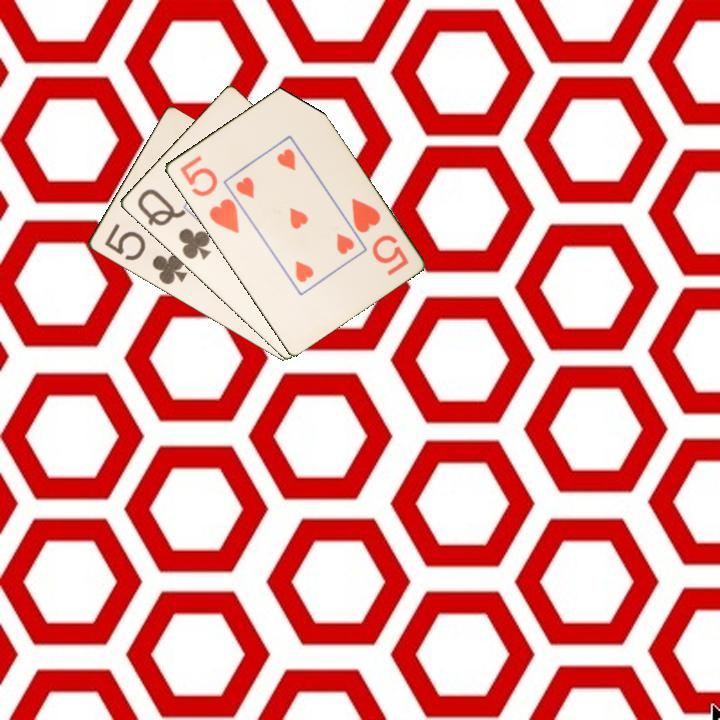5c: (101, 220, 191, 288)
5h: (176, 151, 242, 237), (347, 194, 411, 279)
Qc: (133, 185, 214, 263)
